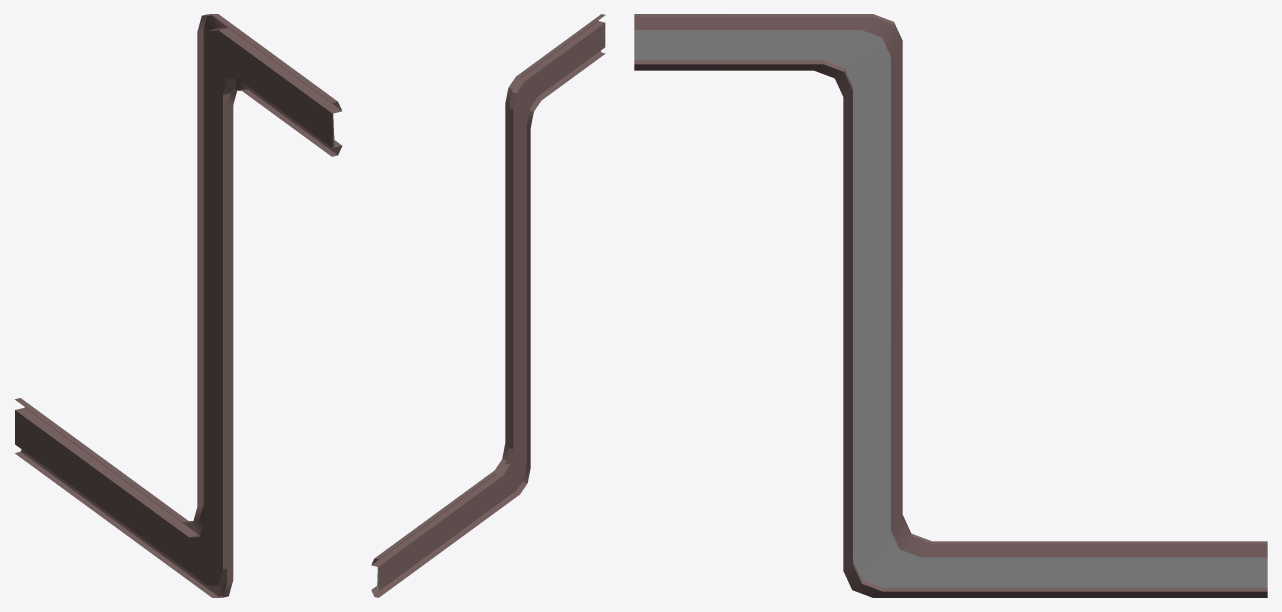
File: ligne_technologique_C1.fbx
3 renders of one model, left to right at view 1: azimuth 30°, elevation 25°; view 2: azimuth 150°, elevation 25°; view 3: azimuth 270°, elevation 25°, orthographic. The views are drawn at different scales.
Visible parts, largest first — view 1: ligne_techno_C1; view 2: ligne_techno_C1; view 3: ligne_techno_C1.
Boxes of the visible parts, x1=… form: ligne_techno_C1: x1=15, y1=14, x2=342, y2=597; ligne_techno_C1: x1=371, y1=14, x2=605, y2=597; ligne_techno_C1: x1=634, y1=14, x2=1267, y2=597.
Bounding box in the file's own units: 6.71 × 356 × 352.
